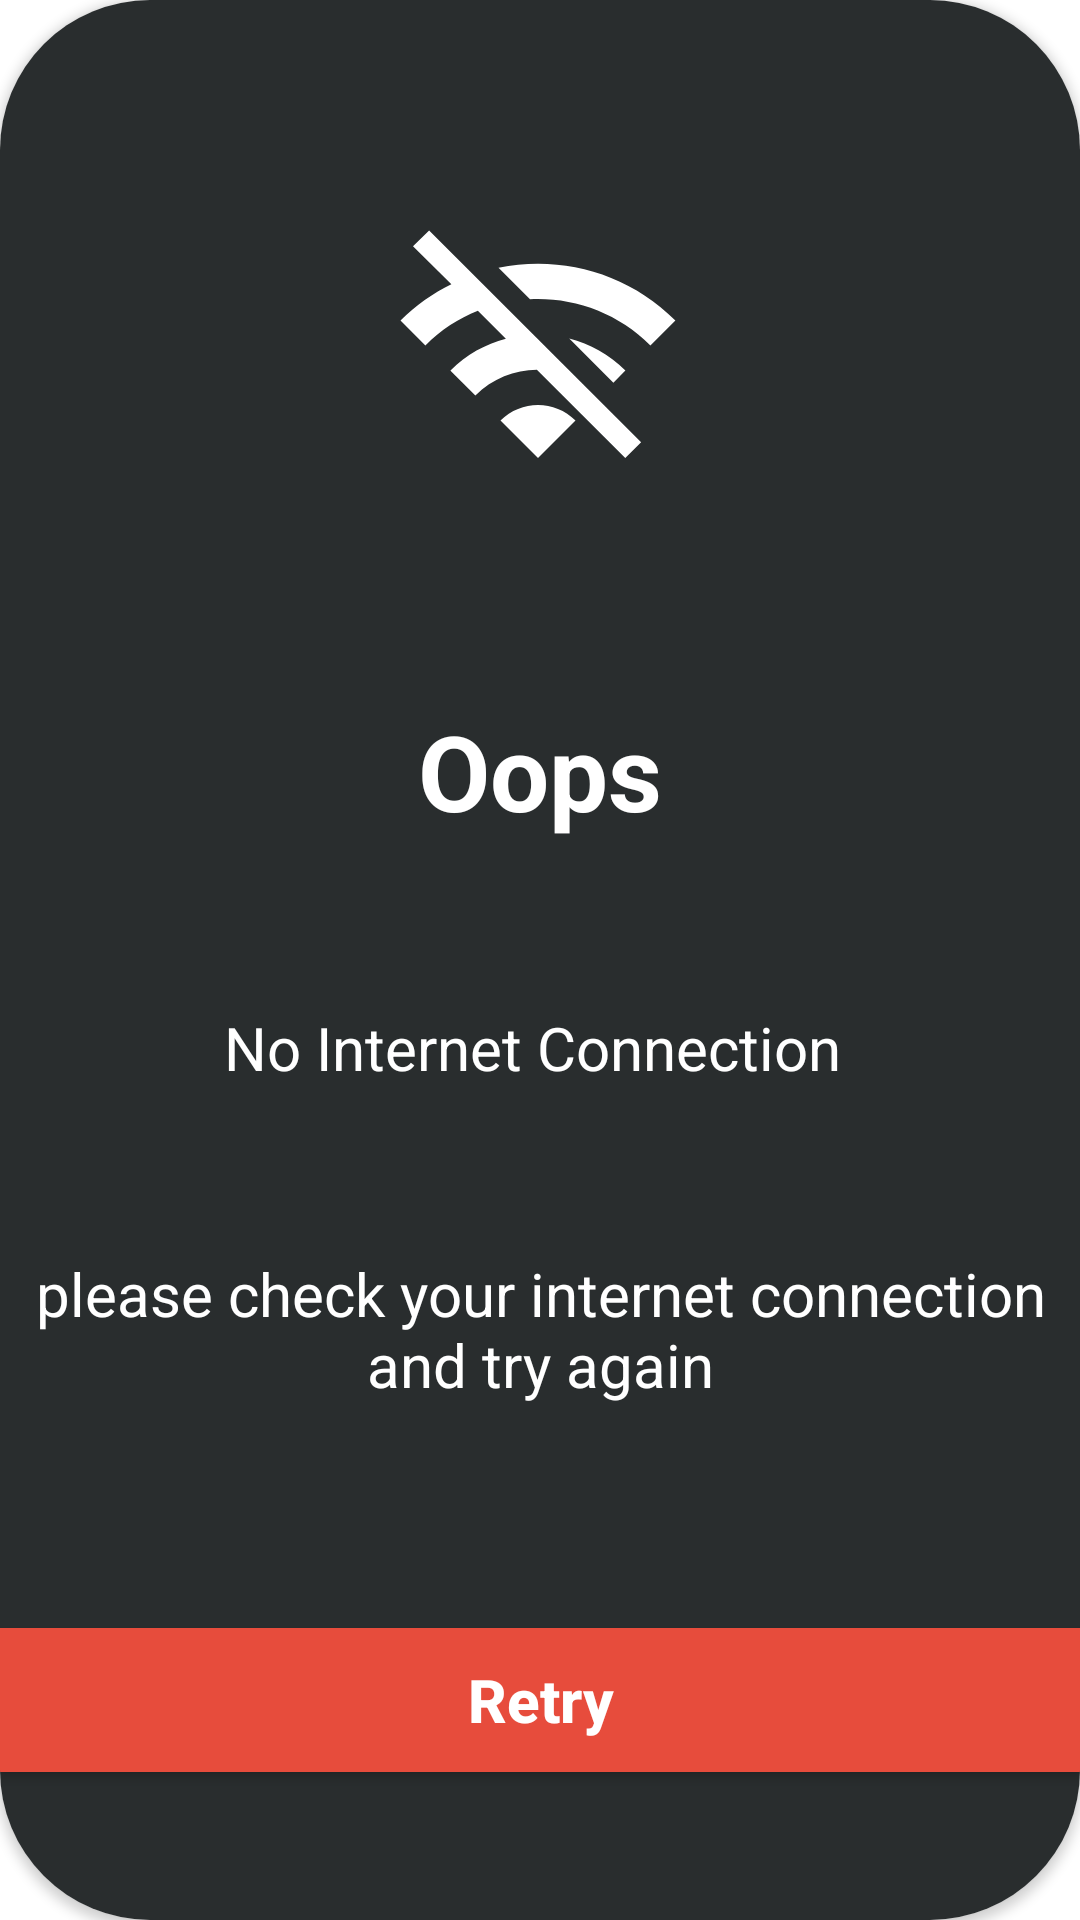

Locate icon controls on the screen. Image size 1080 x 1920, boxes as BBox(x1, y1, x2, y2).
wifi off: BBox(400, 230, 676, 458)
